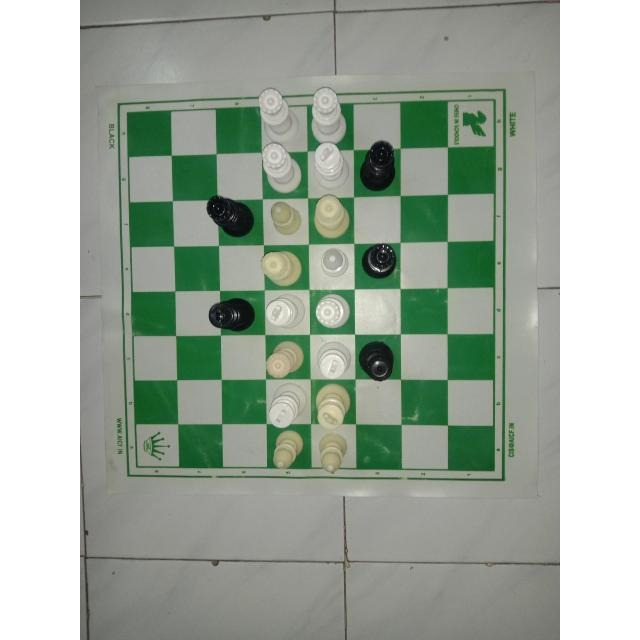black-king: (208, 299, 258, 333)
black-queen: (358, 137, 398, 195), (205, 194, 254, 238), (358, 337, 396, 380), (360, 239, 398, 280)
white-bishop: (266, 427, 308, 475), (316, 427, 350, 474), (270, 198, 304, 242), (315, 246, 351, 282)
white-king: (264, 380, 305, 432), (312, 338, 354, 385), (312, 143, 350, 191), (313, 383, 351, 431), (262, 291, 306, 331)
white-queen: (257, 86, 301, 144), (307, 85, 346, 147), (262, 143, 303, 193), (260, 245, 302, 290), (261, 338, 304, 379), (312, 192, 350, 238), (312, 291, 350, 331)
